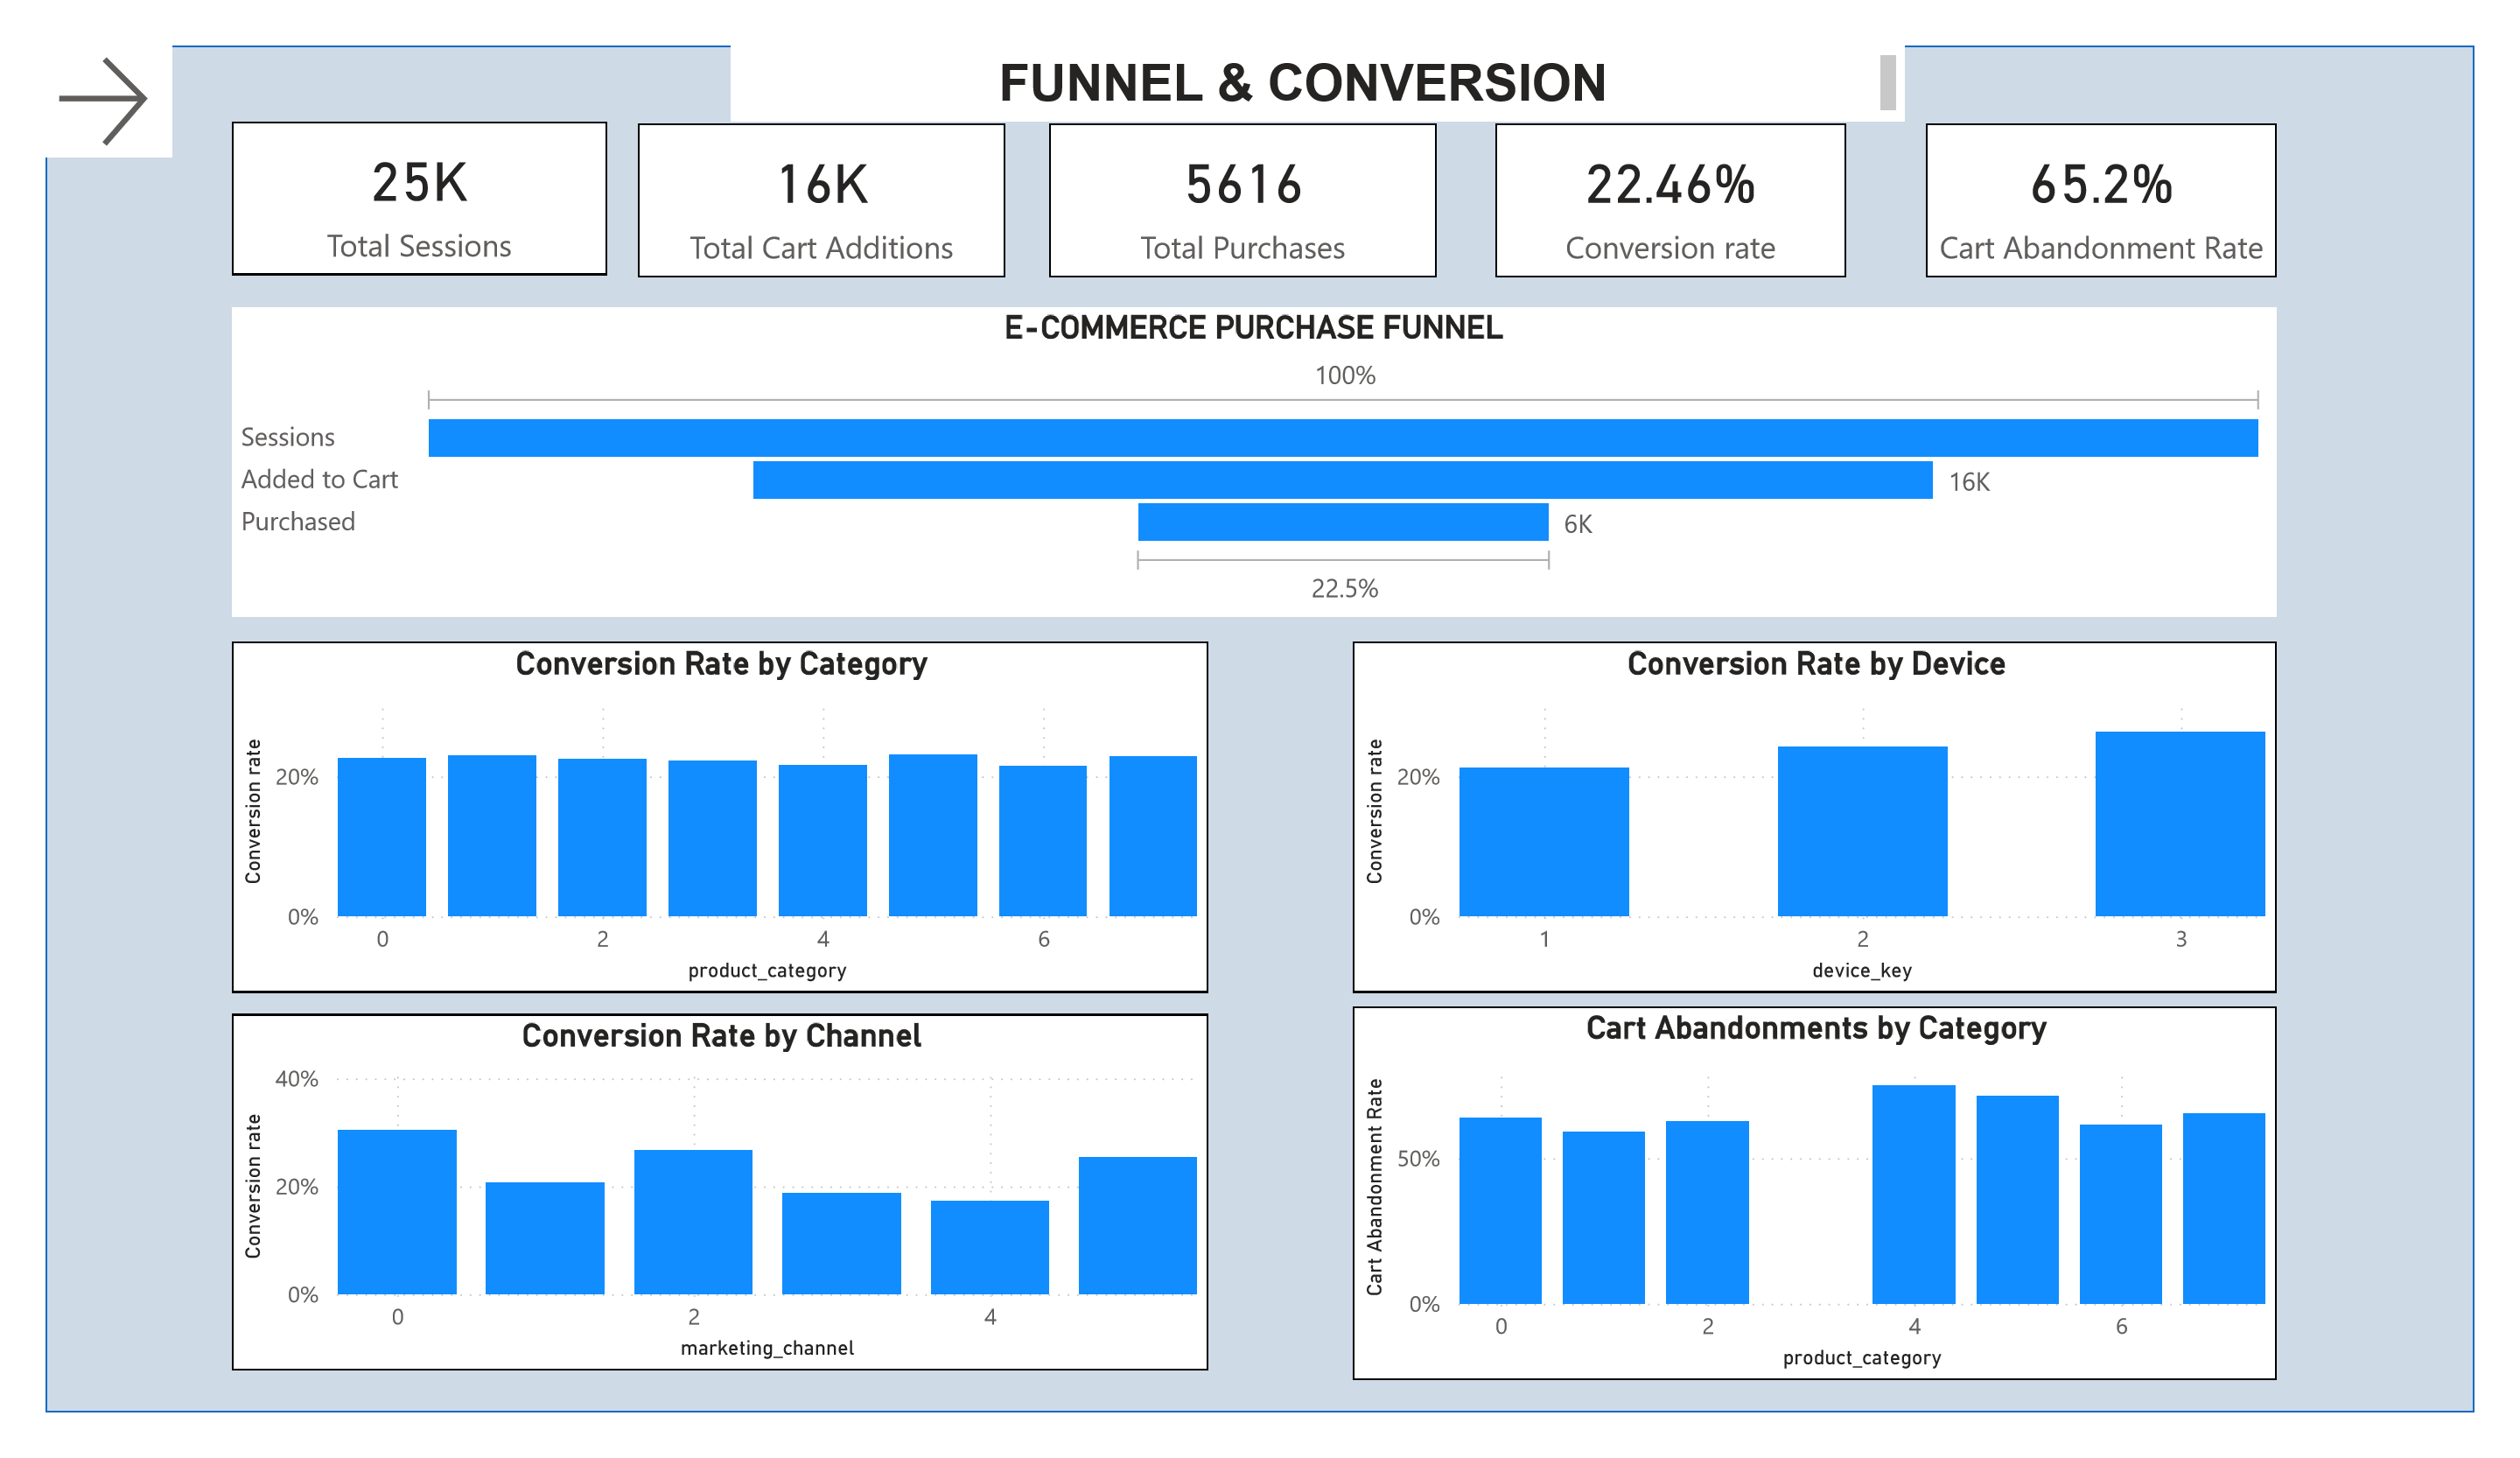

This screenshot's page, from the dashboard's own definition file:
{"tool":"powerbi","page":{"name":"Page 8","canvas":[1280,720],"ordinal":7},"visuals":[{"type":"card","fields":{"Values":["Measures (2).Total Sessions"]},"box":[97.9,39.9,198.2,81],"z":0},{"type":"card","fields":{"Values":["gold fact_session.Total Cart Additions"]},"box":[311.7,39.9,194.5,81],"z":1000},{"type":"card","fields":{"Values":["Measures (2).Conversion rate"]},"box":[763.7,41.1,184.9,81],"z":2000},{"type":"card","fields":{"Values":["Measures (2).Total Purchases"]},"box":[529.2,41.1,204.2,81],"z":3000},{"type":"textbox","box":[361.3,0,618.7,39.9],"z":4000},{"type":"card","fields":{"Values":["Measures (2).Cart Abandonment Rate"]},"box":[990.8,41.1,184.9,81],"z":10001},{"type":"funnel","title":" E-COMMERCE PURCHASE FUNNEL","fields":{"Category":["Funnel.Funnel Stage"],"Y":["Funnel.Funnel Count"]},"box":[97.9,137.7,1077.8,163.1],"z":10002},{"type":"columnChart","title":"Conversion Rate by Device ","fields":{"Category":["gold dim_device.device_key"],"Y":["Measures (2).Conversion rate"]},"box":[688.7,314.2,487,184.9],"z":10003},{"type":"columnChart","title":"Conversion Rate by Channel","fields":{"Category":["gold dim_marketing.marketing_channel"],"Y":["Measures (2).Conversion rate"]},"box":[97.9,509.9,514.7,188.5],"z":10004},{"type":"columnChart","title":"Conversion Rate by Category","fields":{"Category":["gold dim_product.product_category"],"Y":["Measures (2).Conversion rate"]},"box":[97.9,314.2,514.7,184.9],"z":10005},{"type":"columnChart","title":"Cart Abandonments by Category","fields":{"Category":["gold dim_product.product_category"],"Y":["Measures (2).Cart Abandonment Rate"]},"box":[688.7,506.3,487,197],"z":10006},{"type":"shape","box":[0,0,1279.6,720.2],"z":10007}]}

Visuals, with their boxes in screenshot pixels (x1, y1, x2, y2), scaled from the page's 1280x720 canvas onto the 2520x1458 screenshot:
card - Measures (2).Total Sessions: (192,81,583,245)
card - gold fact_session.Total Cart Additions: (613,81,997,245)
card - Measures (2).Conversion rate: (1503,83,1867,248)
card - Measures (2).Total Purchases: (1042,83,1444,248)
textbox: (711,0,1929,81)
card - Measures (2).Cart Abandonment Rate: (1950,83,2314,248)
" E-COMMERCE PURCHASE FUNNEL" funnel: (192,279,2314,609)
"Conversion Rate by Device " columnChart: (1356,636,2314,1011)
"Conversion Rate by Channel" columnChart: (192,1033,1206,1414)
"Conversion Rate by Category" columnChart: (192,636,1206,1011)
"Cart Abandonments by Category" columnChart: (1356,1026,2314,1424)
shape: (0,0,2519,1457)
